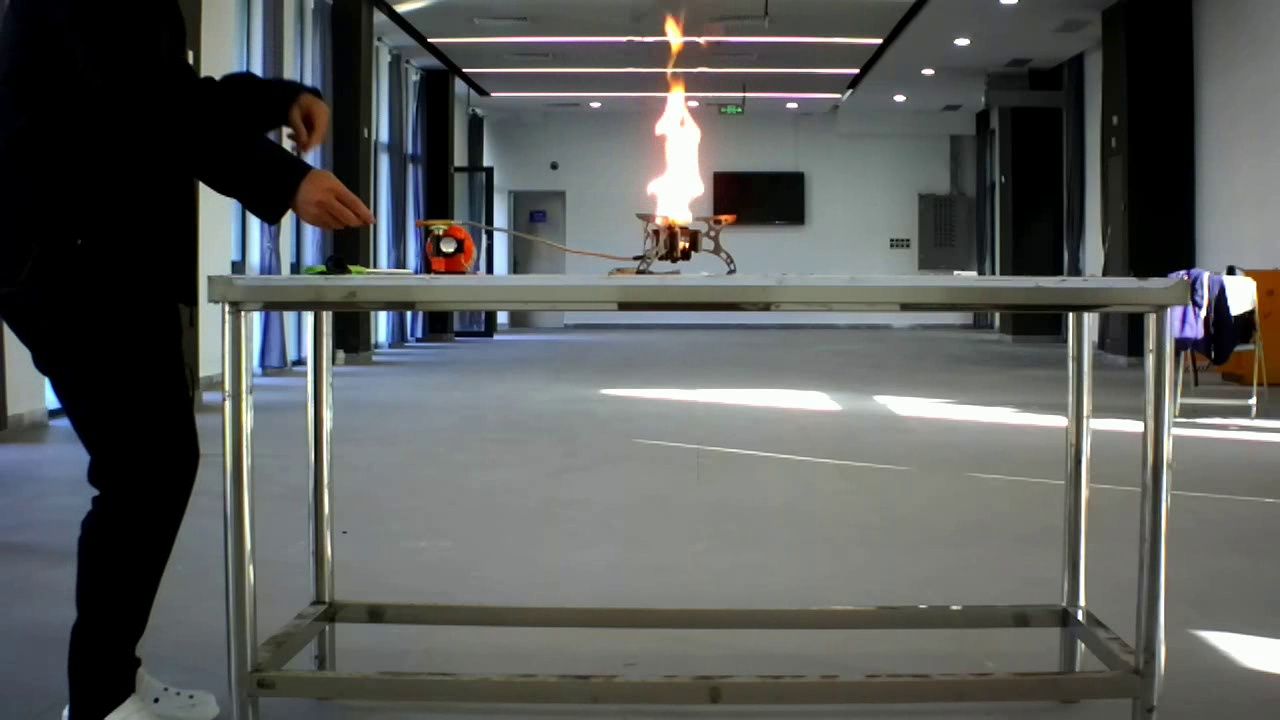Fire: (623, 12, 740, 265)
